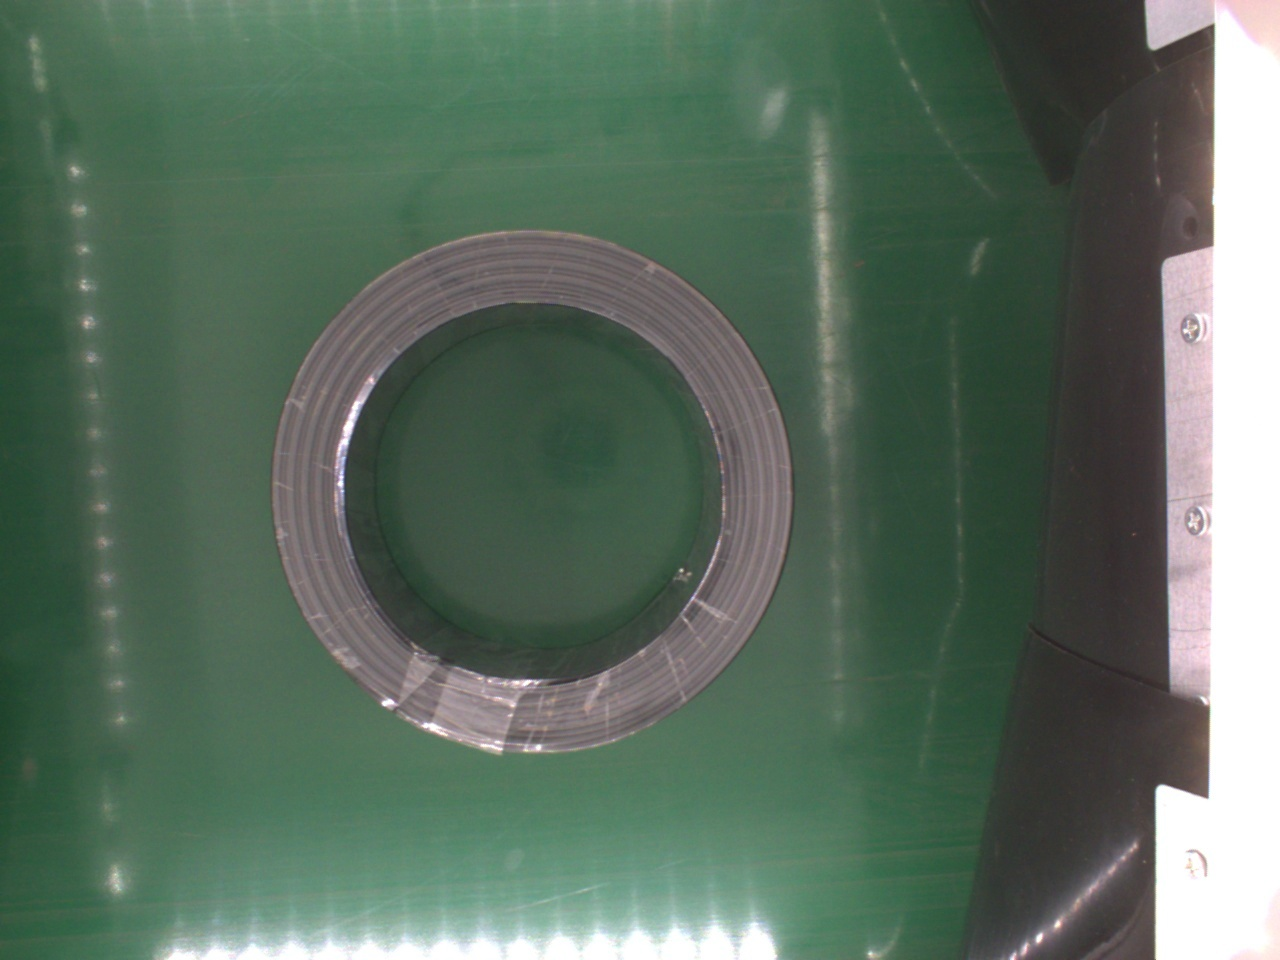black: (268, 230, 794, 759)
